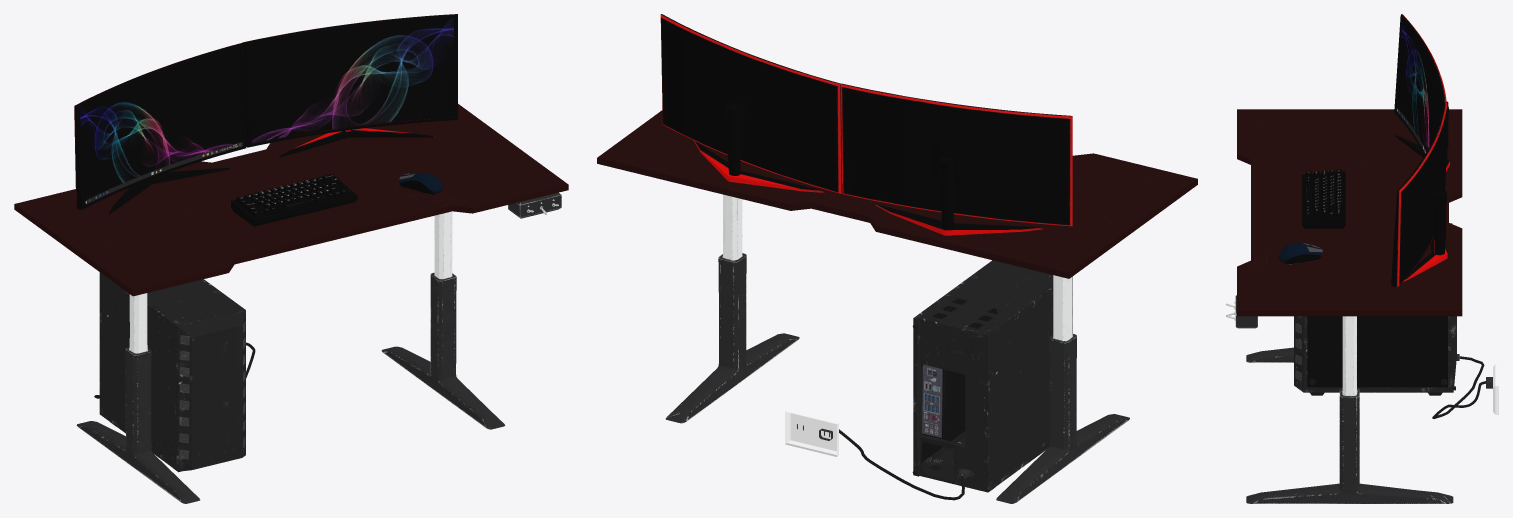
Rendered from desk-transformed.glb.
3 views of the same model, side by side, from view 1: azimuth 30°, elevation 25°; view 2: azimuth 150°, elevation 25°; view 3: azimuth 270°, elevation 25° (orthographic). The views are drawn at different scales.
Parts seen in each view (by area): view 1: Object_3, Object_6, Object_8, Object_2, Object_5, Object_7, Object_4; view 2: Object_5, Object_8, Object_3, Object_2; view 3: Object_3, Object_8, Object_2, Object_5, Object_6, Object_7, Object_4.
Part boxes in pixels (<box>): Object_3: <box>14,104,568,296</box>; Object_6: <box>79,17,453,204</box>; Object_8: <box>94,272,255,472</box>; Object_2: <box>76,192,561,503</box>; Object_5: <box>74,14,457,214</box>; Object_7: <box>231,174,357,226</box>; Object_4: <box>399,172,442,194</box>; Object_5: <box>660,14,1072,235</box>; Object_8: <box>785,260,1072,500</box>; Object_3: <box>597,110,1197,278</box>; Object_2: <box>665,194,1129,503</box>; Object_3: <box>1237,109,1462,316</box>; Object_8: <box>1294,223,1498,418</box>; Object_2: <box>1226,295,1453,503</box>; Object_5: <box>1391,14,1449,287</box>; Object_6: <box>1396,20,1442,153</box>; Object_7: <box>1302,169,1345,228</box>; Object_4: <box>1278,242,1322,264</box>.
Bounding box in the file's own units: 5.41 × 4.1 × 3.09.
Materials: 7 (7 with a texture image).
